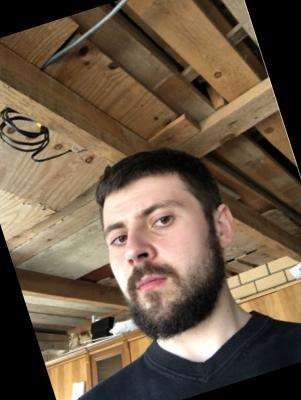without_mask: (96, 182, 233, 348)
